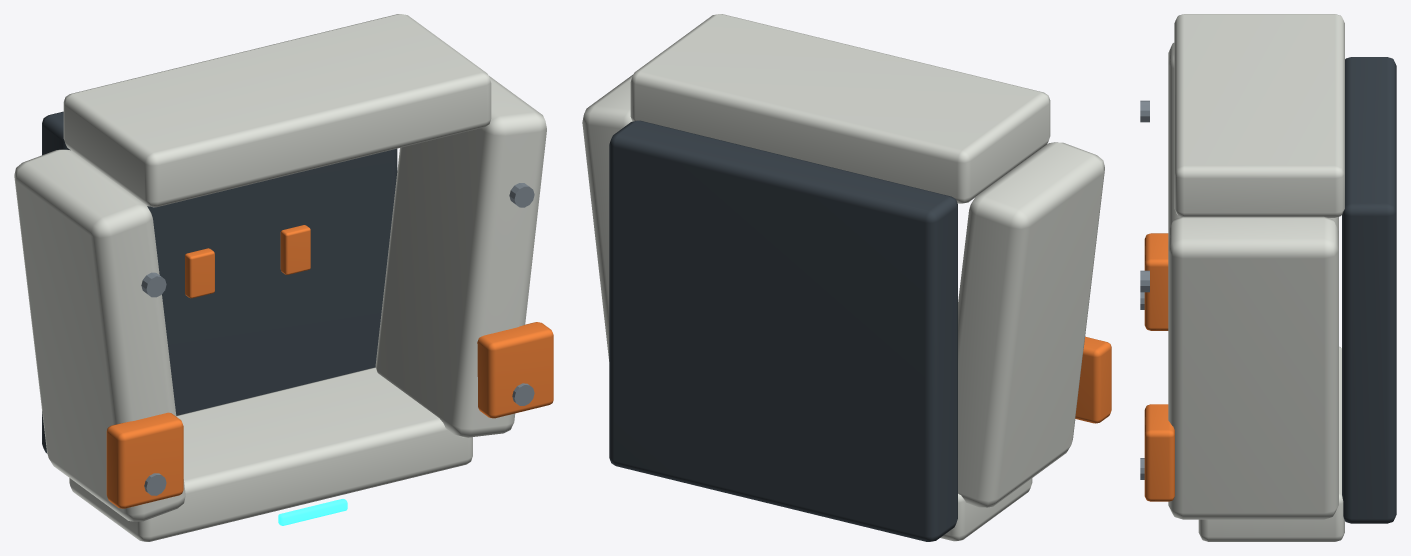
Rendered from VXDR_INTERCEPT_v001_BACKPACK.fbx.
3 renders of one model, left to right at view 1: azimuth 30°, elevation 25°; view 2: azimuth 150°, elevation 25°; view 3: azimuth 270°, elevation 25°, orthographic. The views are drawn at different scales.
Parts seen in each view (by area): view 1: Top bridge, Body mounting plate, Cradle armored rail.001, Cradle armored rail, Bottom charging bridge, Rail orange latch, Rail orange latch.001, Charge contact.001, Charge contact, Charge indicator; view 2: Body mounting plate, Top bridge, Cradle armored rail, Cradle armored rail.001, Rail orange latch, Bottom charging bridge; view 3: Cradle armored rail.001, Top bridge, Body mounting plate, Bottom charging bridge, Rail orange latch.001, Rail orange latch, Cradle armored rail.
Boxes of the visible parts, <box> form: Top bridge: <box>63,14,491,207</box>; Body mounting plate: <box>42,111,397,453</box>; Cradle armored rail.001: <box>375,76,546,437</box>; Cradle armored rail: <box>14,149,185,521</box>; Bottom charging bridge: <box>69,367,472,541</box>; Rail orange latch: <box>106,412,183,508</box>; Rail orange latch.001: <box>477,322,553,418</box>; Charge contact.001: <box>280,225,310,274</box>; Charge contact: <box>185,248,214,298</box>; Charge indicator: <box>278,499,347,525</box>; Body mounting plate: <box>609,120,957,541</box>; Top bridge: <box>630,14,1050,203</box>; Cradle armored rail: <box>958,142,1104,507</box>; Cradle armored rail.001: <box>582,74,633,361</box>; Rail orange latch: <box>1075,336,1111,423</box>; Bottom charging bridge: <box>940,478,1032,541</box>; Cradle armored rail.001: <box>1168,216,1338,519</box>; Top bridge: <box>1174,14,1344,217</box>; Body mounting plate: <box>1342,57,1396,523</box>; Bottom charging bridge: <box>1198,346,1344,541</box>; Rail orange latch.001: <box>1144,404,1174,501</box>; Rail orange latch: <box>1144,233,1168,330</box>; Cradle armored rail: <box>1168,43,1338,230</box>.
Size of the model in its own units: 40.81 by 35 by 21.05.
